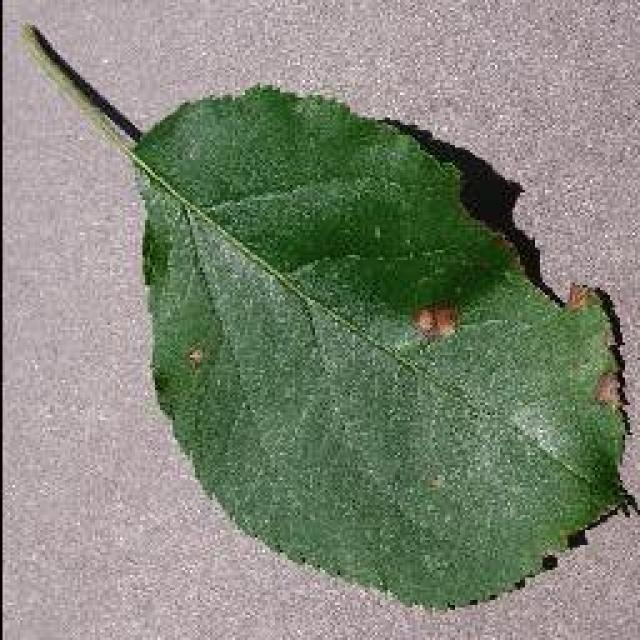apple black rot: (20, 20, 638, 612)
